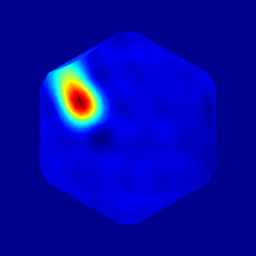ship: (85, 118, 104, 141)
wave: (66, 79, 97, 126)
